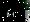person: (23, 8, 30, 22), (8, 10, 14, 20)
